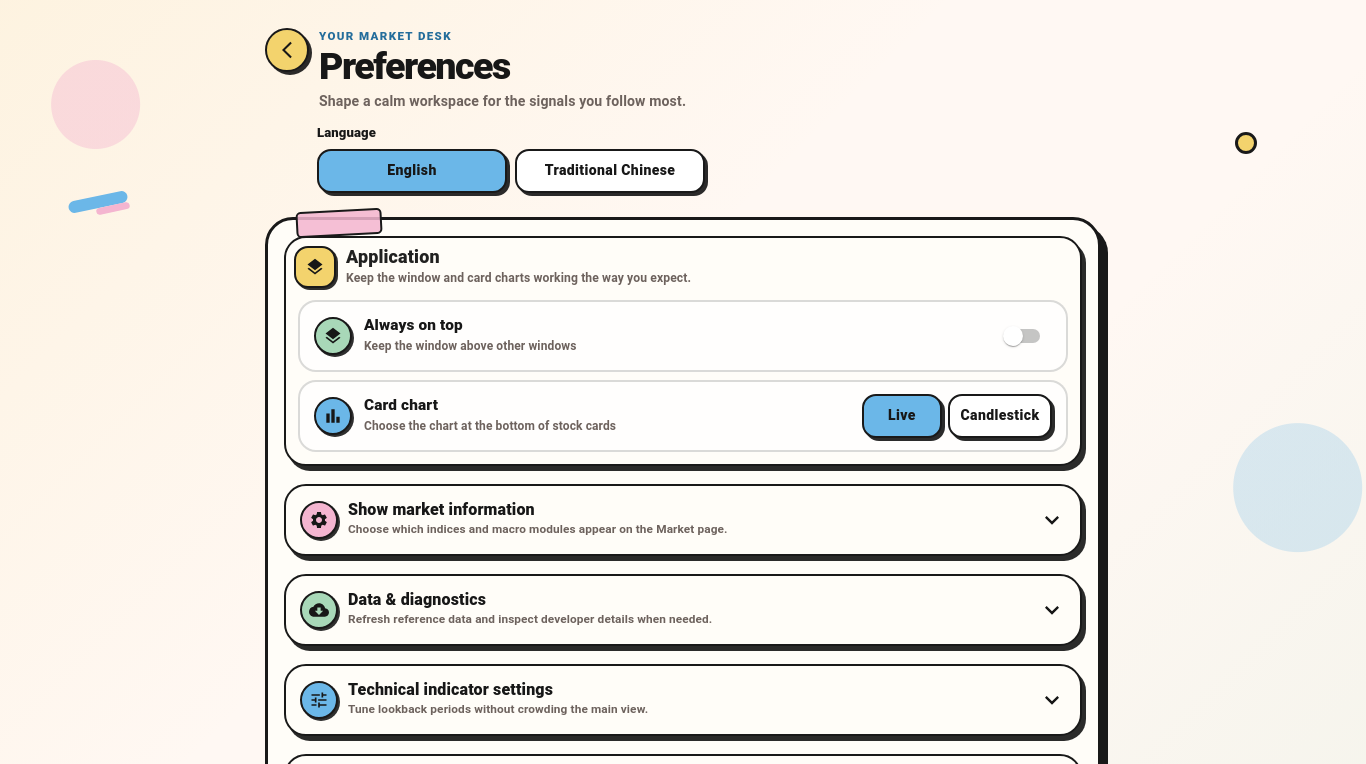
Test case: Settings page › shows a localized safe error when the log folder cannot be opened
Click the button "Data & diagnostics" at x=683, y=610, box top-left (286, 576), bottom-right (1080, 644)
(page scrolled)
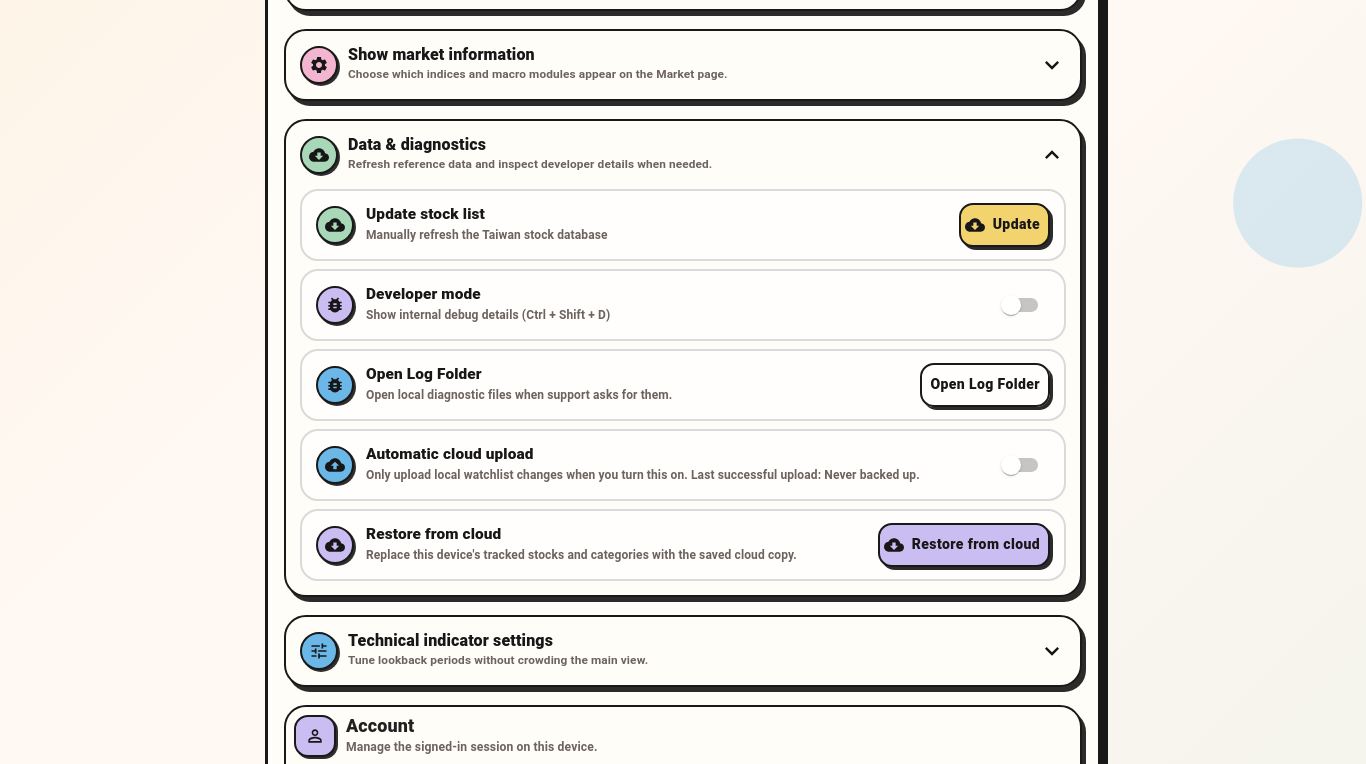
Click the button "Open Log Folder" at x=985, y=384, box top-left (920, 362), bottom-right (1050, 406)
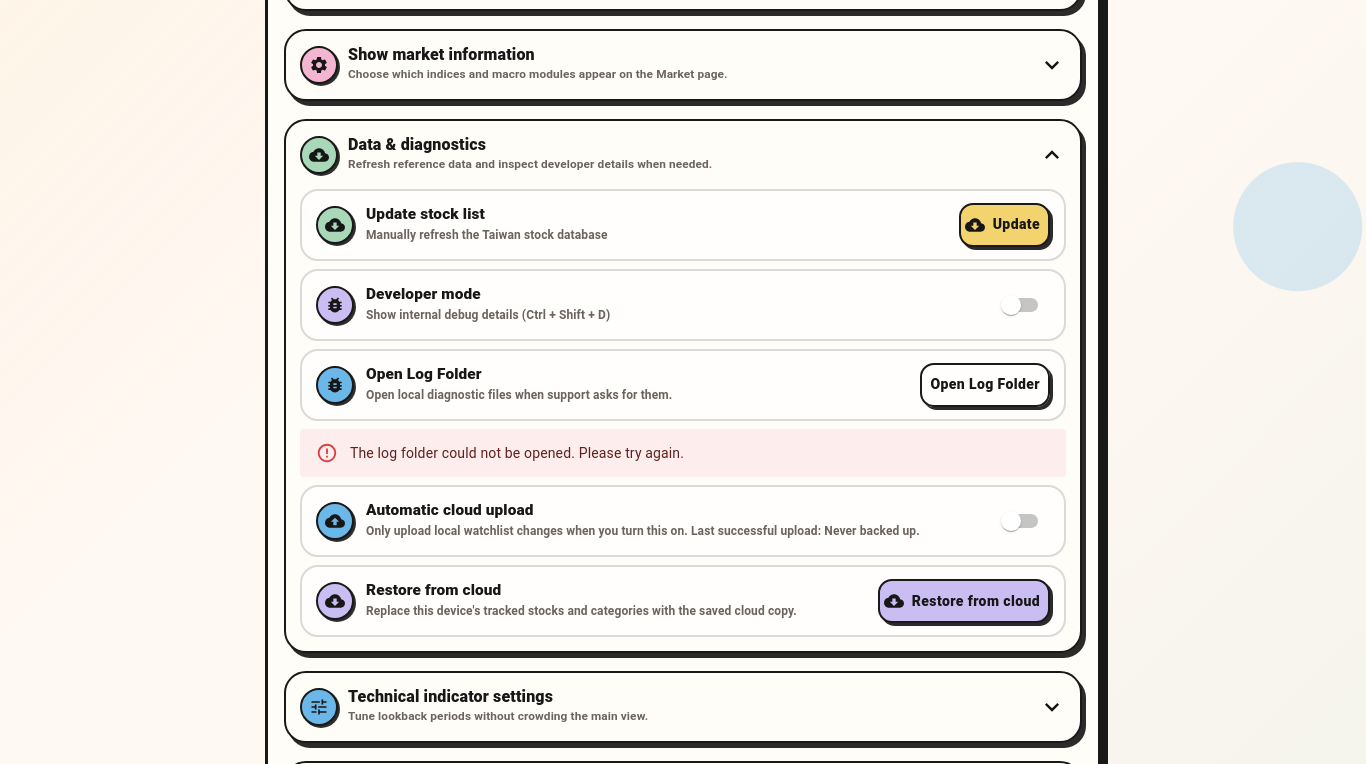
Check: the message reads "The log folder could not be opened. Please try again.", box top-left (350, 444), bottom-right (684, 460)
